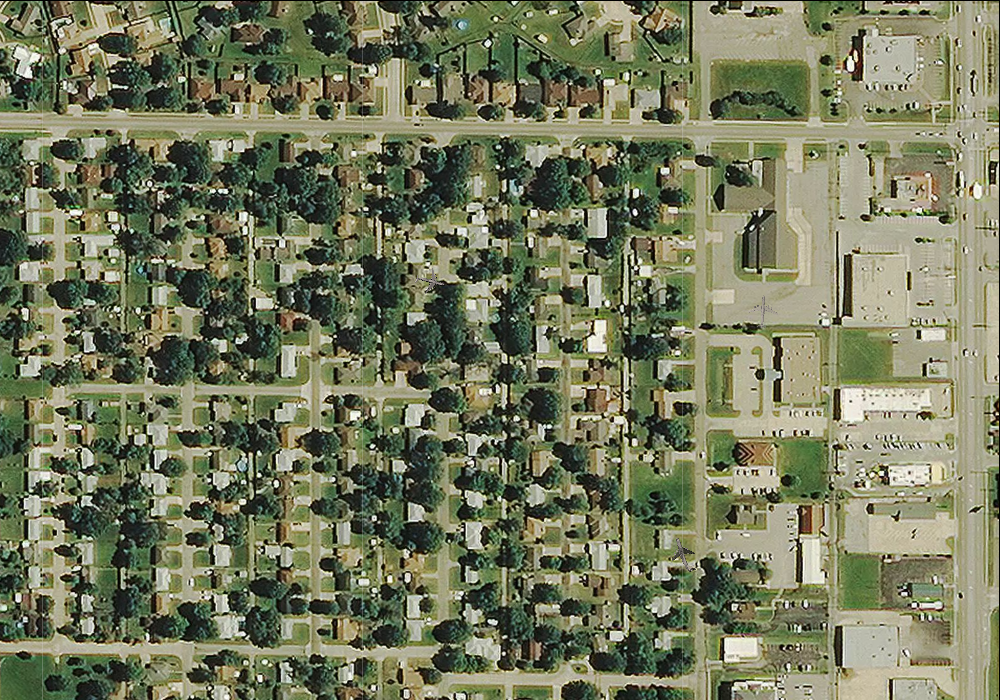plane: (664, 532, 705, 577), (411, 263, 448, 299), (746, 294, 779, 329)
